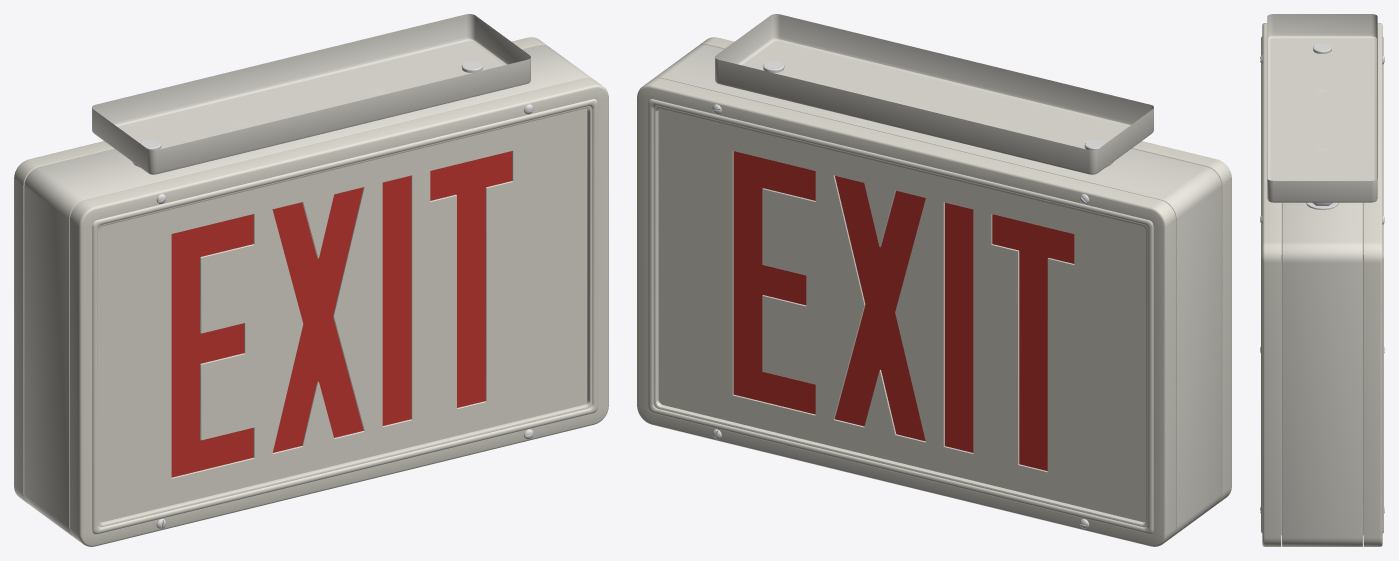
Rendered from Kit_ExitSign_HangingFlush.fbx.
The picture shows the model from 3 angles, left to right: view 1: azimuth 30°, elevation 25°; view 2: azimuth 150°, elevation 25°; view 3: azimuth 270°, elevation 25°; orthographic projection. The views are drawn at different scales.
Parts seen in each view (by area): view 1: Kit_ExitSign_HangingFlush_LOD0; view 2: Kit_ExitSign_HangingFlush_LOD0; view 3: Kit_ExitSign_HangingFlush_LOD0.
Boxes of the visible parts, x1=… form: Kit_ExitSign_HangingFlush_LOD0: x1=14, y1=14, x2=608, y2=546; Kit_ExitSign_HangingFlush_LOD0: x1=637, y1=14, x2=1231, y2=546; Kit_ExitSign_HangingFlush_LOD0: x1=1260, y1=14, x2=1384, y2=546.
Size of what is drawn, in the model's own units: 0.346 by 0.237 by 0.0789.
